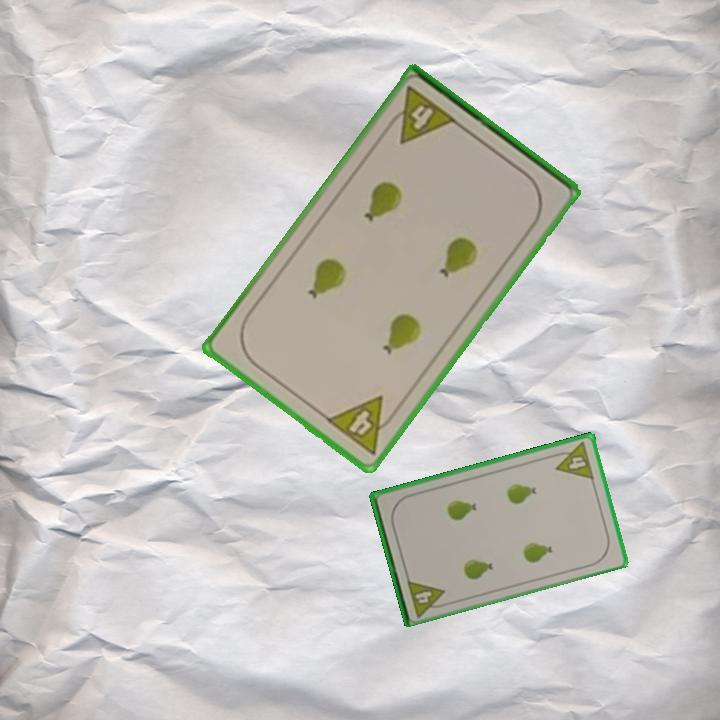4p: (322, 392, 403, 459), (381, 83, 460, 147), (549, 438, 597, 482), (403, 575, 450, 619)
